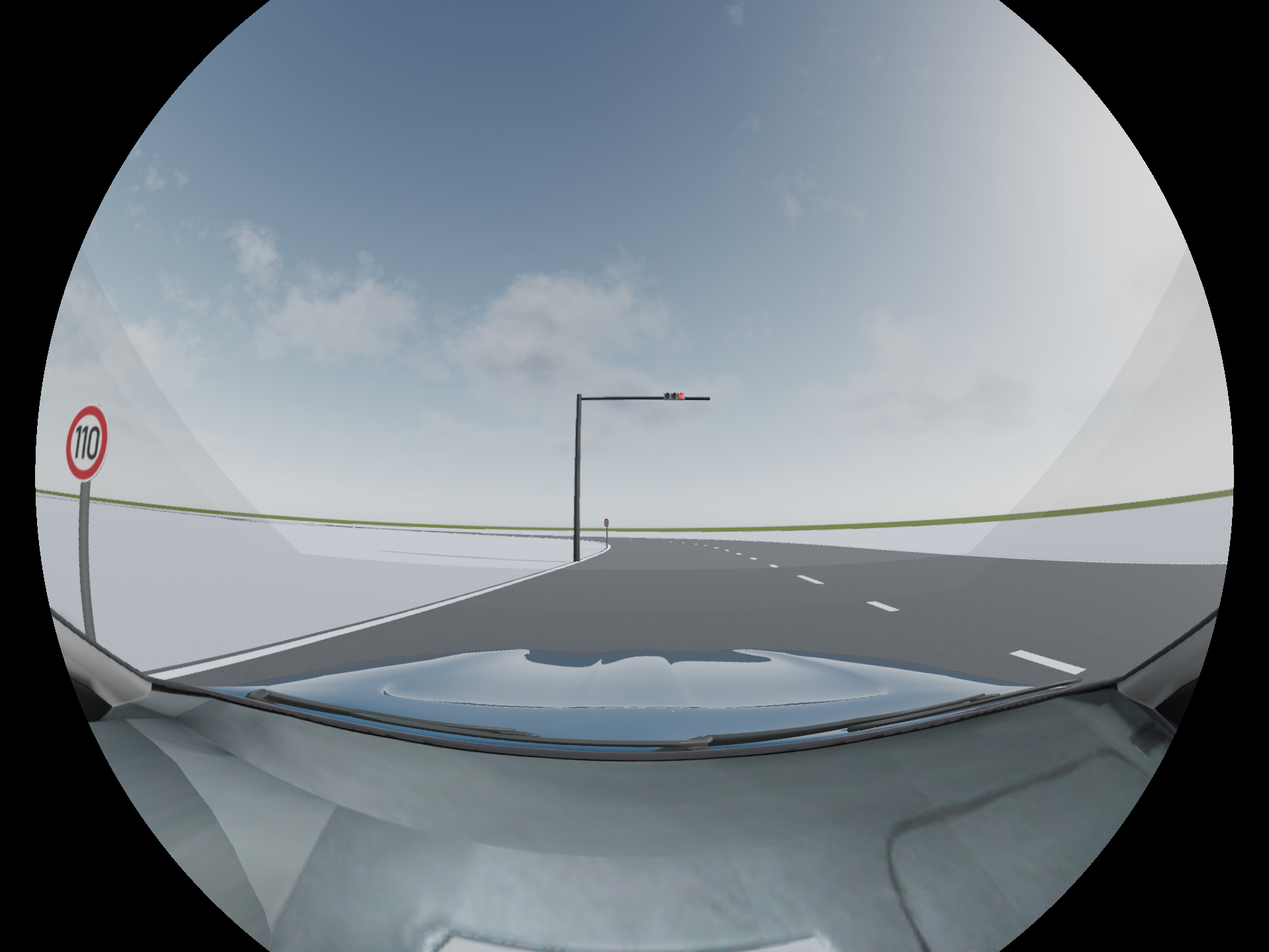Red Light: (662, 391, 686, 403)
Speed Limit 110: (64, 404, 107, 482)
